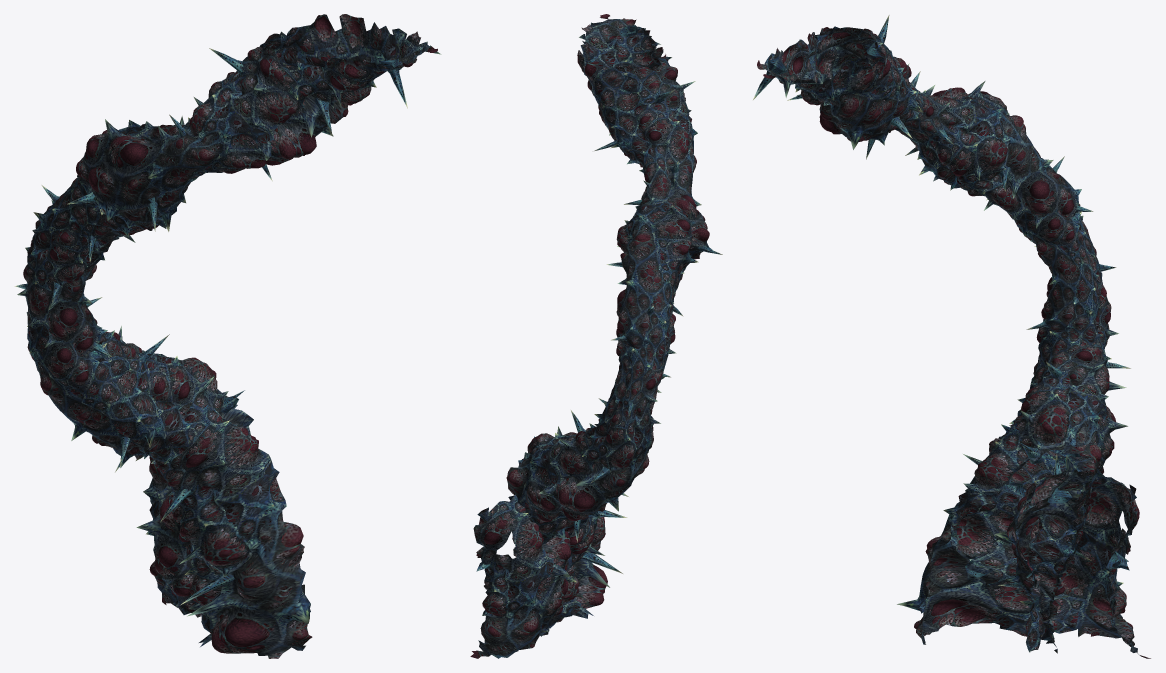
File: backup.fbx
3 views of the same model, side by side, from view 1: azimuth 30°, elevation 25°; view 2: azimuth 150°, elevation 25°; view 3: azimuth 270°, elevation 25° (orthographic). The views are drawn at different scales.
Parts seen in each view (by area): view 1: LODGroup_1_MainMesh_1_SubMesh_1, LODGroup_1_MainMesh_1_SubMesh_2; view 2: LODGroup_1_MainMesh_1_SubMesh_1, LODGroup_1_MainMesh_1_SubMesh_2; view 3: LODGroup_1_MainMesh_1_SubMesh_1, LODGroup_1_MainMesh_1_SubMesh_2.
Boxes of the visible parts, x1,y1,x2,y2 form: LODGroup_1_MainMesh_1_SubMesh_1: (14,14,441,658); LODGroup_1_MainMesh_1_SubMesh_2: (23,27,437,650); LODGroup_1_MainMesh_1_SubMesh_1: (470,19,722,658); LODGroup_1_MainMesh_1_SubMesh_2: (473,14,712,658); LODGroup_1_MainMesh_1_SubMesh_1: (753,15,1150,658); LODGroup_1_MainMesh_1_SubMesh_2: (757,26,1139,652).
Bounding box in the file's own units: 599 × 1375 × 825.
